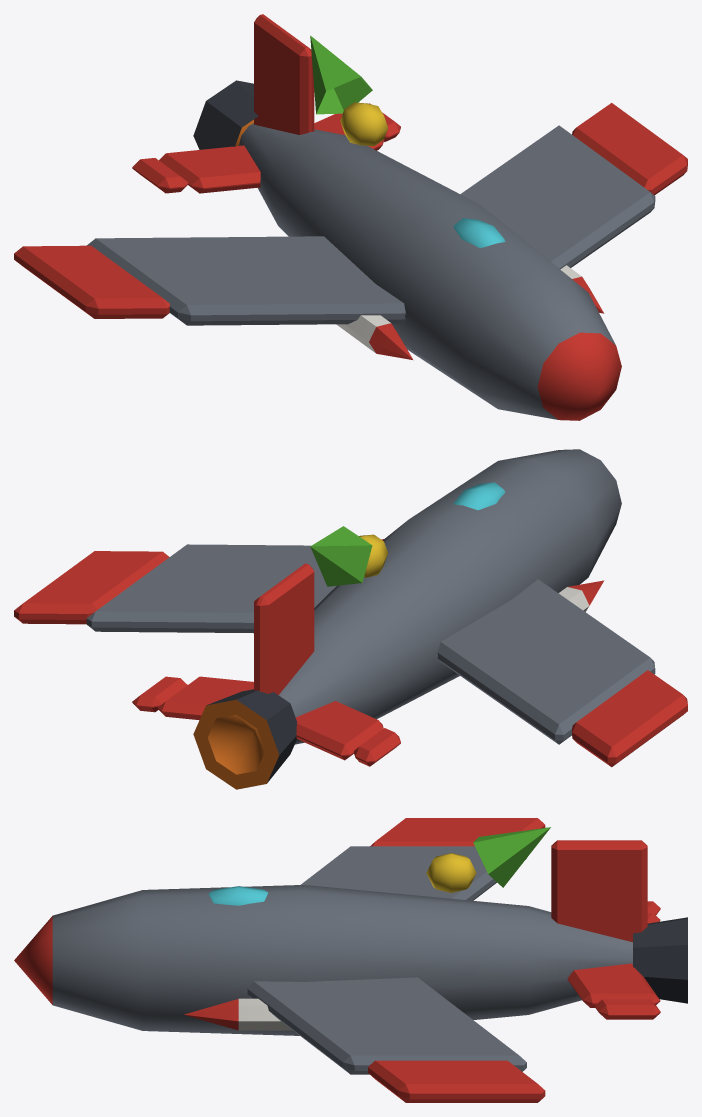
3 renders of one model, top to bottom at view 1: azimuth 30°, elevation 25°; view 2: azimuth 150°, elevation 25°; view 3: azimuth 270°, elevation 25°, orthographic. The views are drawn at different scales.
Visible parts, largest first — view 1: as_0_base; view 2: as_0_base; view 3: as_0_base.
Boxes of the visible parts, left/top/right/bottom form: as_0_base: left=14, top=14, right=687, bottom=420; as_0_base: left=14, top=449, right=687, bottom=789; as_0_base: left=14, top=818, right=687, bottom=1102.
Size of the model in its own units: 1.05 by 0.3641 by 1.1.
